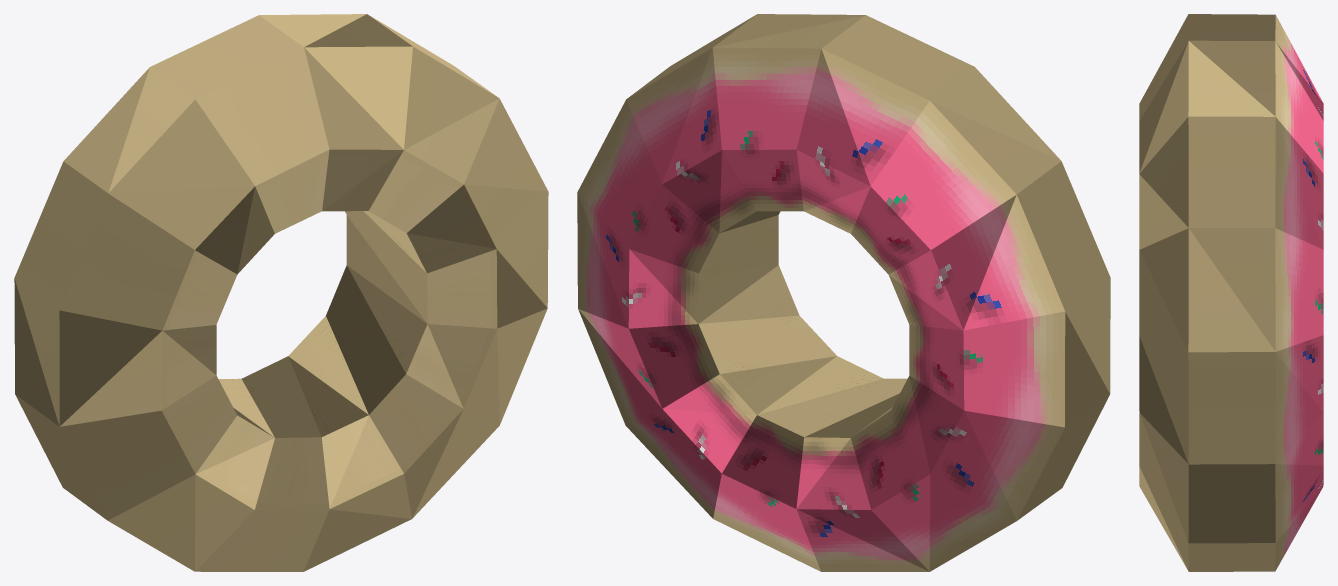
The model's file is donut.glb.
The picture shows the model from 3 angles, left to right: view 1: azimuth 30°, elevation 25°; view 2: azimuth 150°, elevation 25°; view 3: azimuth 270°, elevation 25°; orthographic projection. The views are drawn at different scales.
Visible parts, largest first — view 1: cDonutShape; view 2: cDonutShape; view 3: cDonutShape.
Part boxes in pixels (x1,y1,x2,y2): cDonutShape: (14, 14, 548, 571); cDonutShape: (577, 14, 1110, 571); cDonutShape: (1139, 14, 1323, 571).
Bounding box in the file's own units: 1.17 × 1.2 × 0.3954.
1 material, 1 textured.
